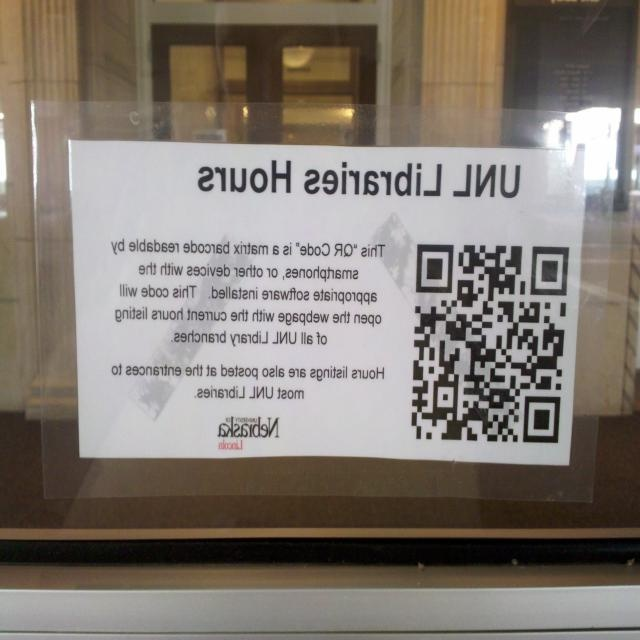qr-code: (410, 244, 570, 443)
